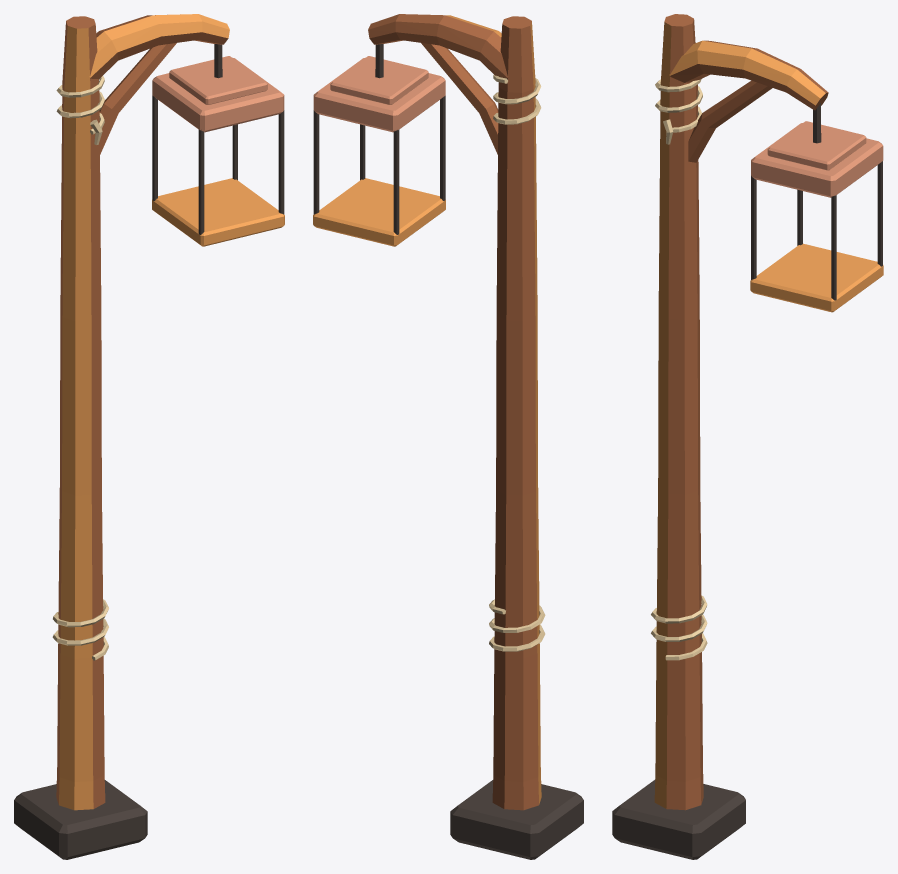
File: lampPost.glb
3 renders of one model, left to right at view 1: azimuth 30°, elevation 25°; view 2: azimuth 150°, elevation 25°; view 3: azimuth 330°, elevation 25°, orthographic.
Parts seen in each view (by area): view 1: lampPost; view 2: lampPost; view 3: lampPost.
Part boxes in pixels (x1=…): lampPost: x1=14, y1=14, x2=284, y2=859; lampPost: x1=313, y1=14, x2=583, y2=859; lampPost: x1=612, y1=14, x2=883, y2=859.
Bounding box in the file's own units: 1.01 × 3.5 × 0.4.
Materials: 1 (1 with a texture image).
